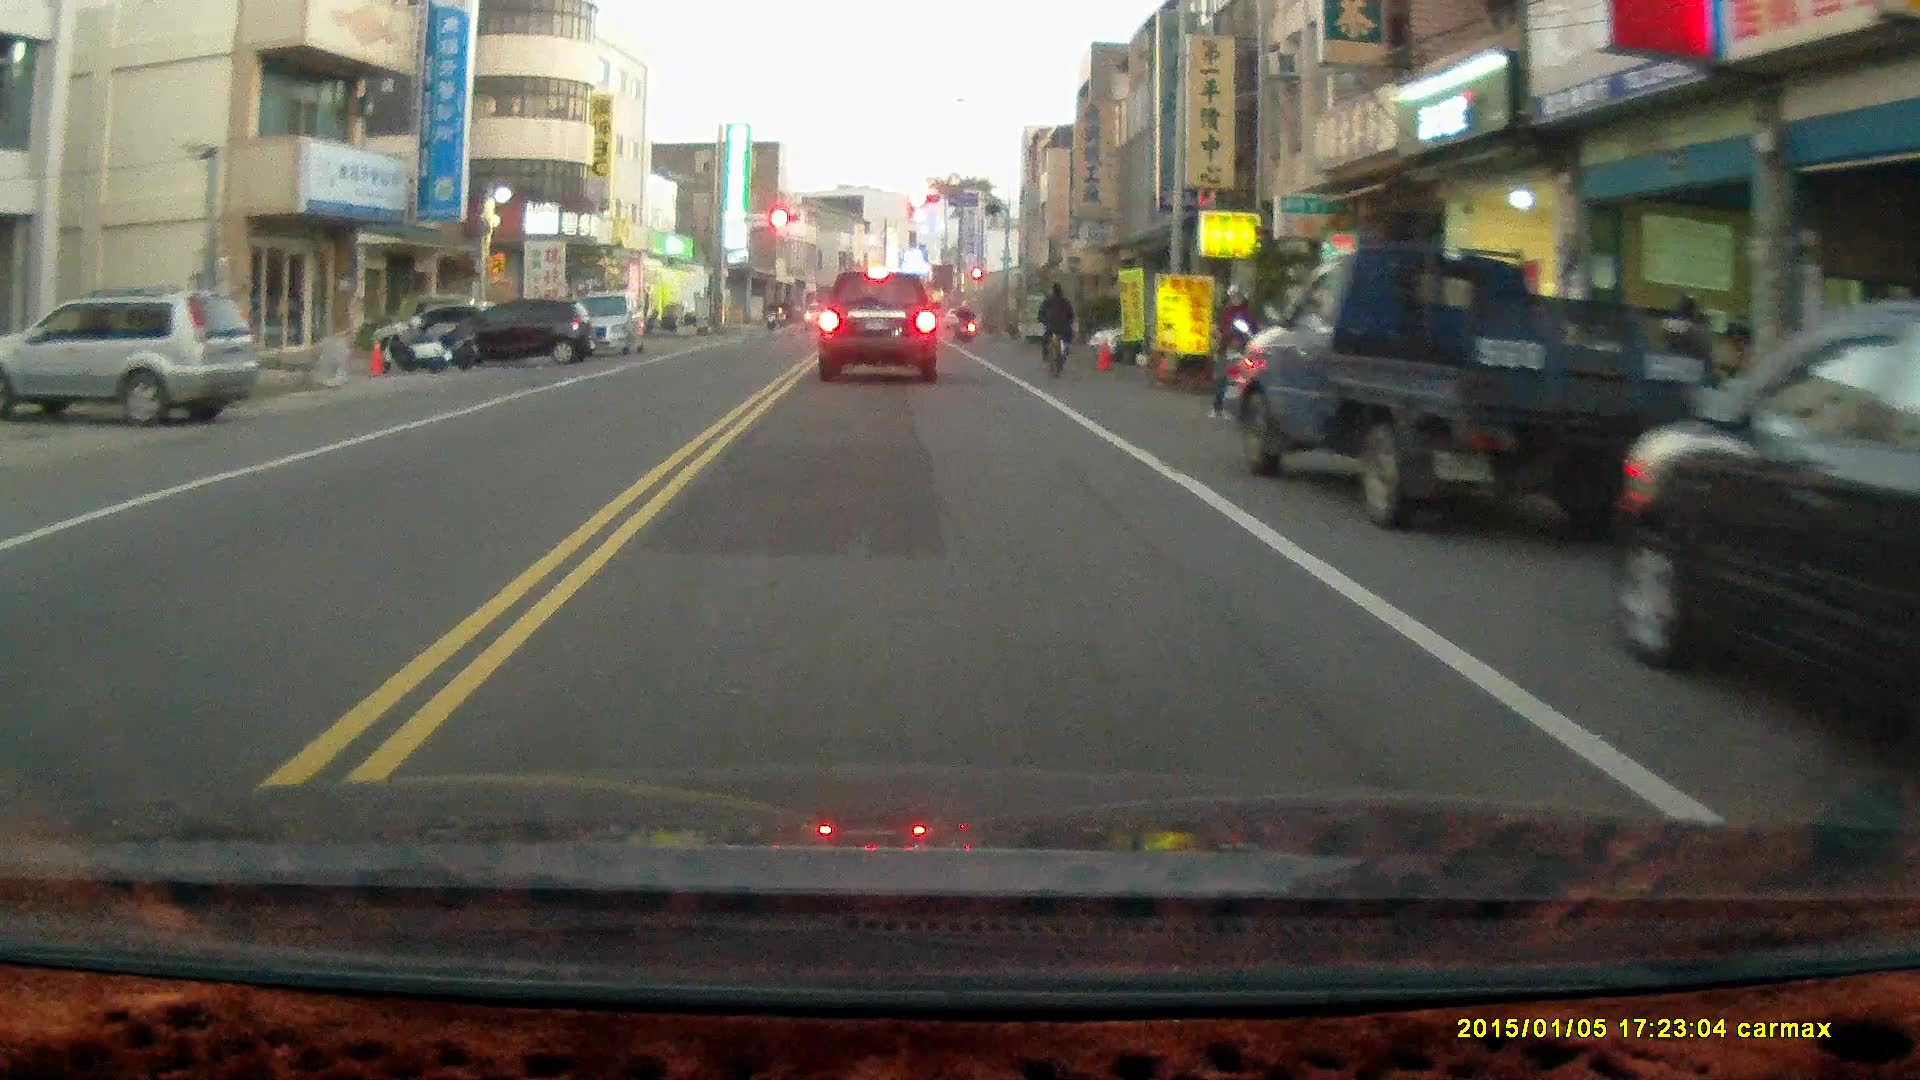pedestrian: (1207, 281, 1255, 422)
rider: (1036, 283, 1075, 383)
vehicle: (1220, 244, 1726, 536), (1618, 303, 1920, 734), (2, 284, 265, 422), (818, 272, 944, 378), (442, 297, 601, 365), (543, 289, 651, 359)
